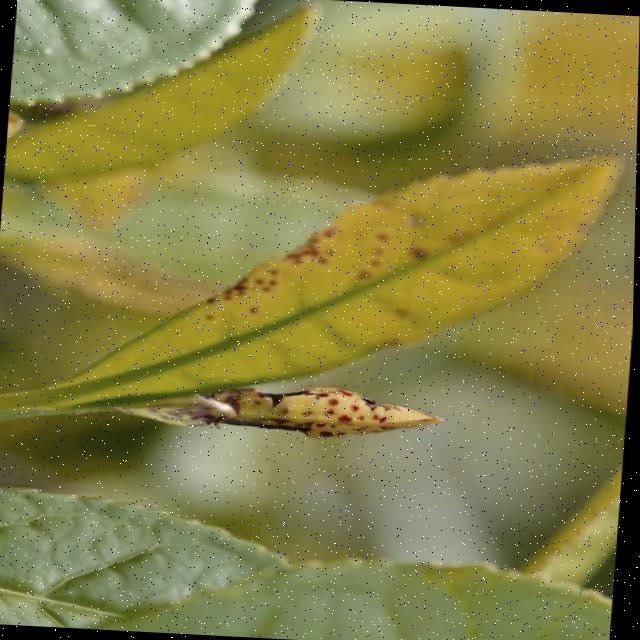Tea red scab: (195, 173, 486, 334), (193, 379, 438, 447)
